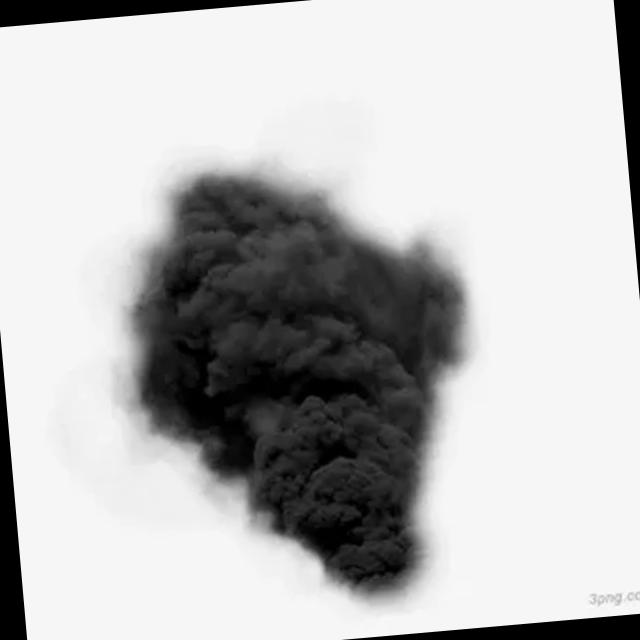Smoke: (118, 142, 492, 612)
